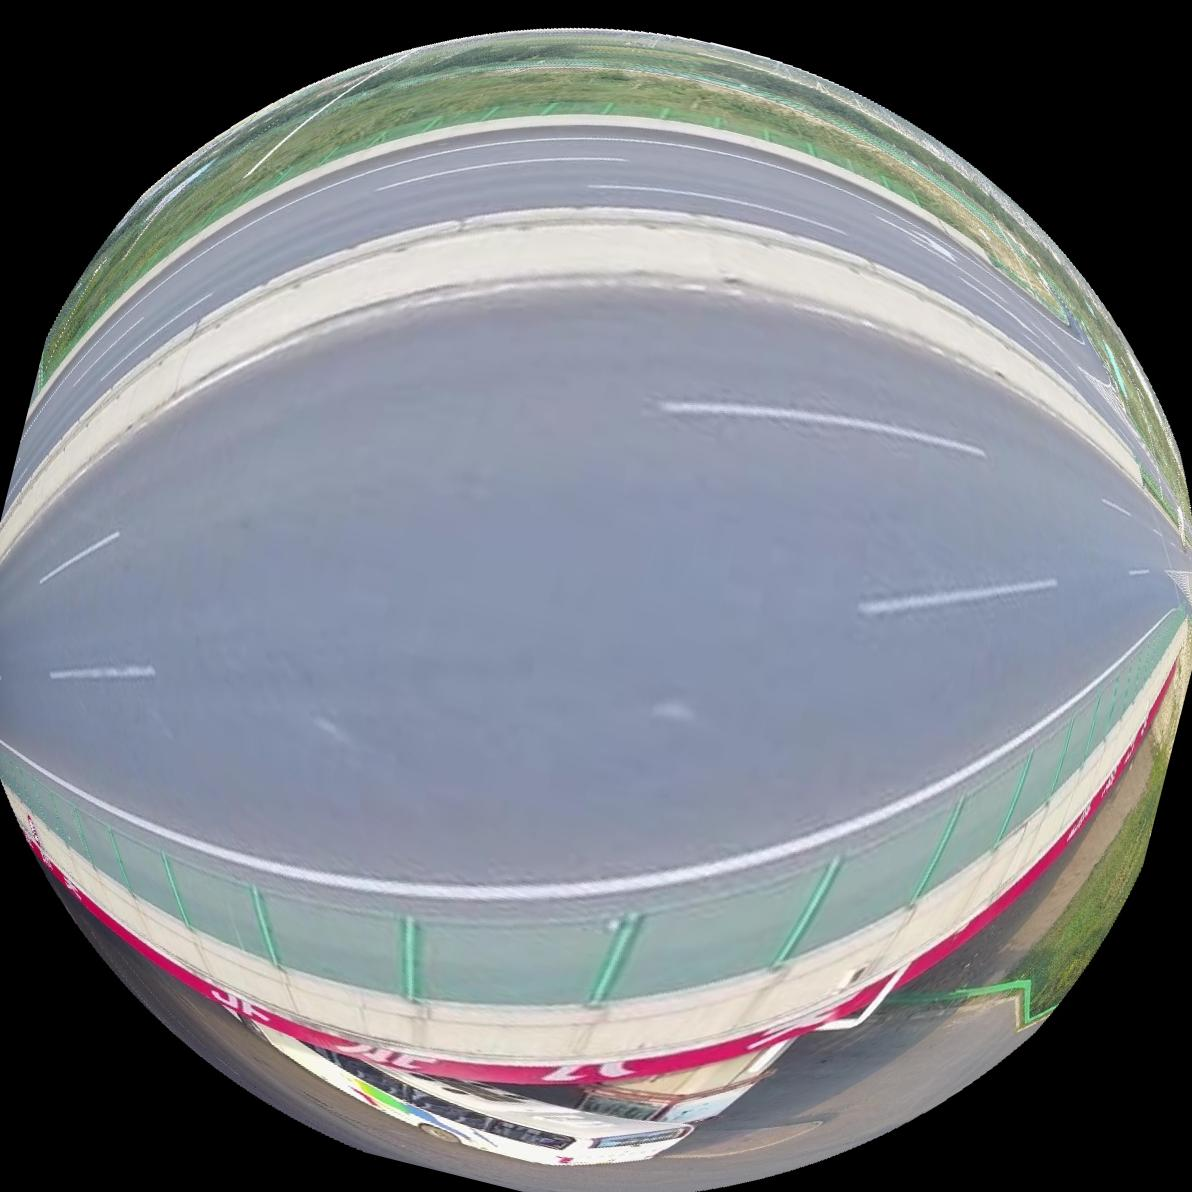cars: (257, 1029, 693, 1168)
